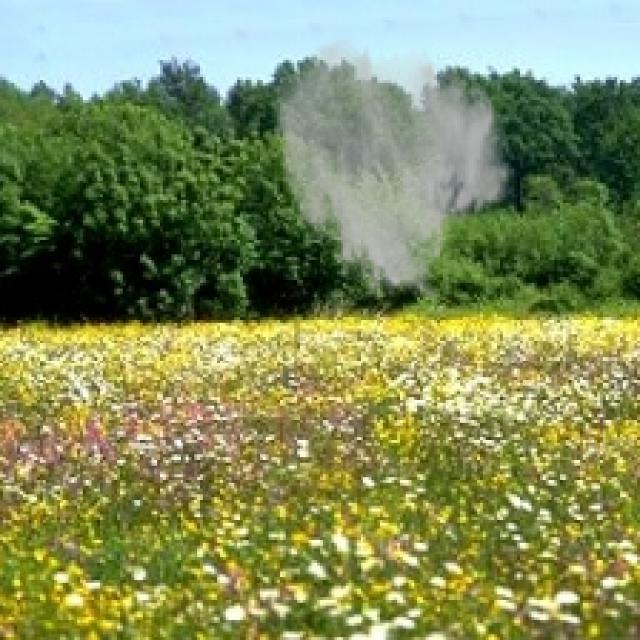Smoke: (272, 34, 514, 309)
